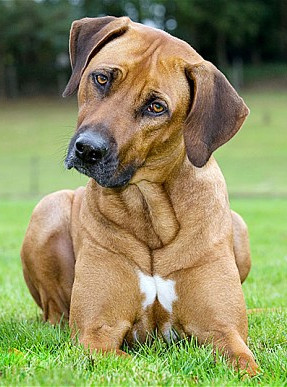dog: (0, 0, 287, 387)
